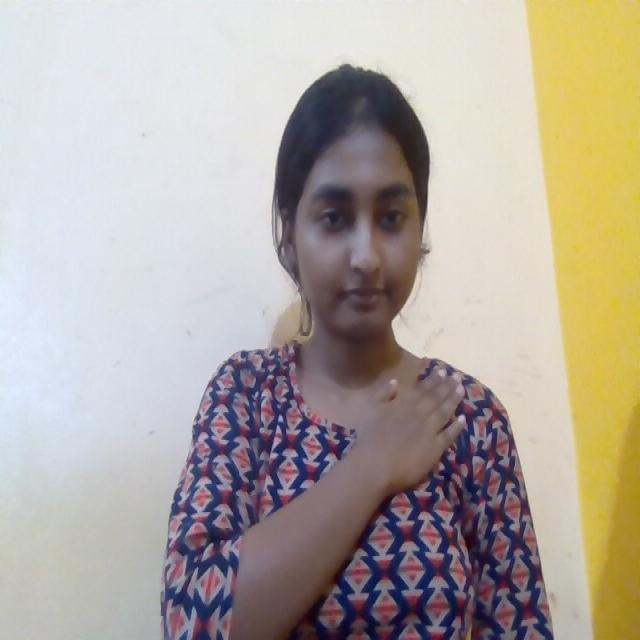Please: (346, 349, 485, 505)
